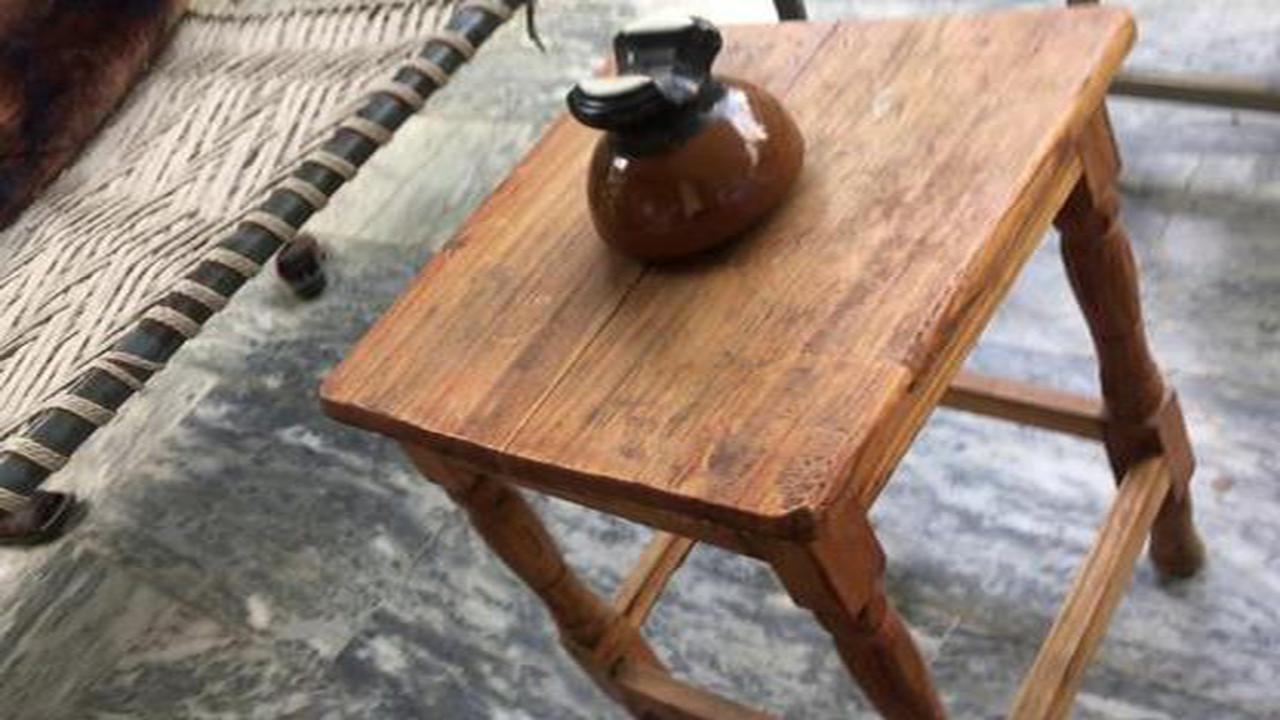insulator_pin: (557, 13, 819, 279)
